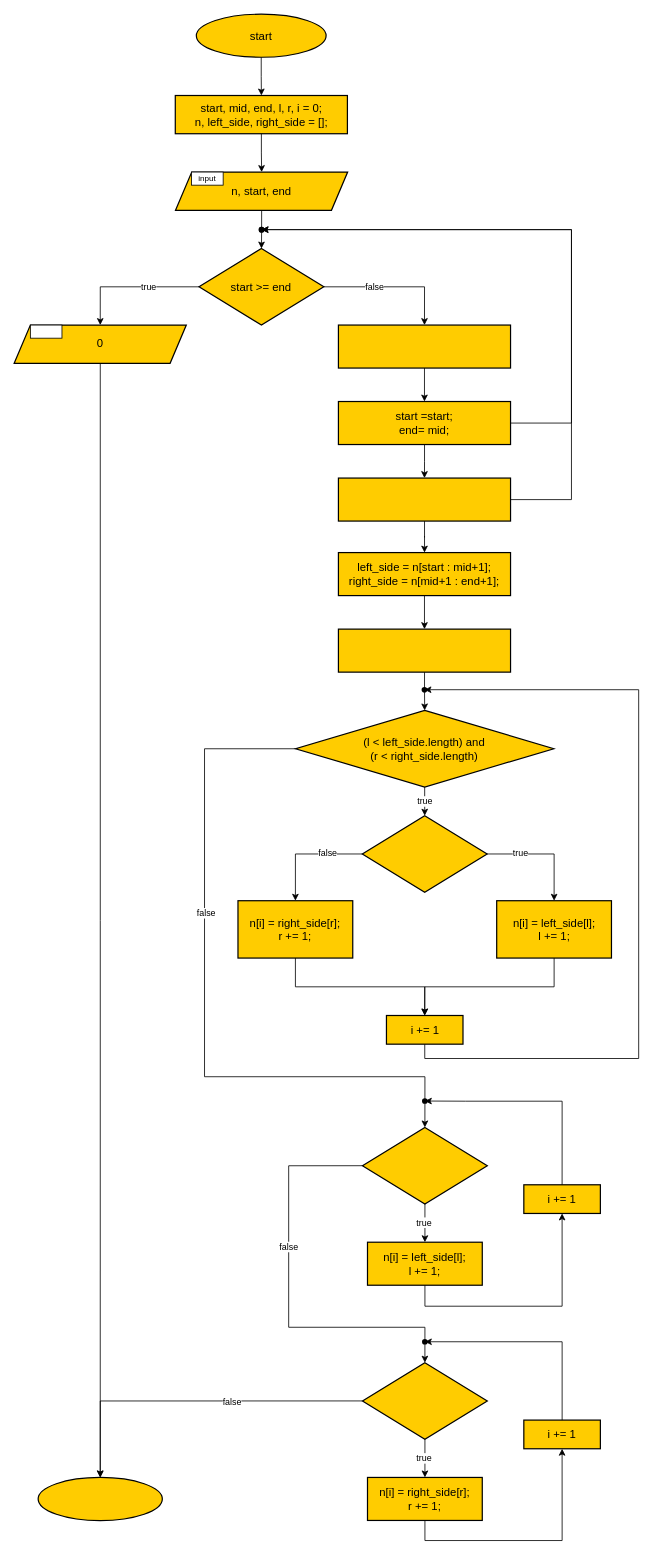
Some shapes in this 660 by 1562 pixel diagram are drawn without their labels. The centre of each missing label's shape, as x and y in pixels:
"end" goes at (x=100, y=1498).
"l < left_side.length" goes at (x=425, y=1165).
"l = r = 0; i = start;" goes at (x=424, y=650).
"left_side[l] < right_side[r]" goes at (x=424, y=853).
"mid = (start + end)//2" goes at (x=424, y=346).
"output" goes at (x=46, y=331).
"r < right_side.length" goes at (x=425, y=1400).
"start = mid+1 end = end" goes at (x=424, y=499).
